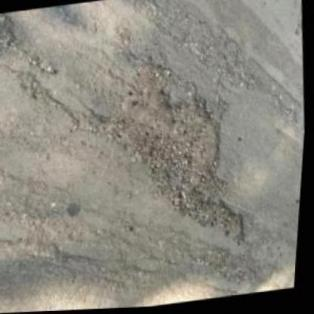Hueco: (87, 47, 244, 224), (172, 197, 252, 254)
